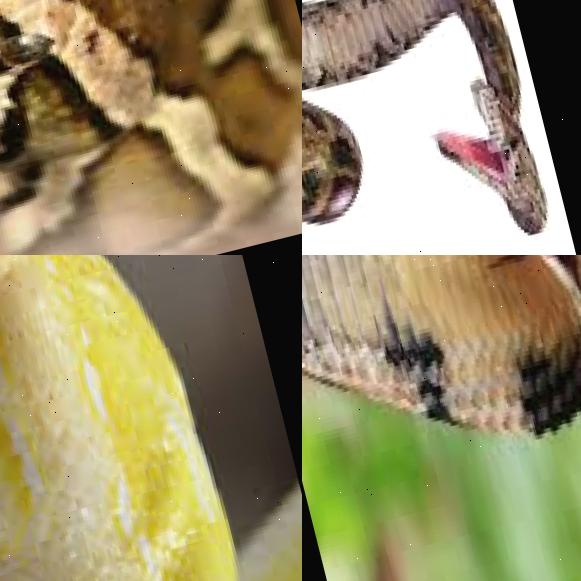5: (302, 255, 581, 512)
snake: (0, 255, 253, 581), (0, 0, 302, 255), (302, 0, 534, 255)
